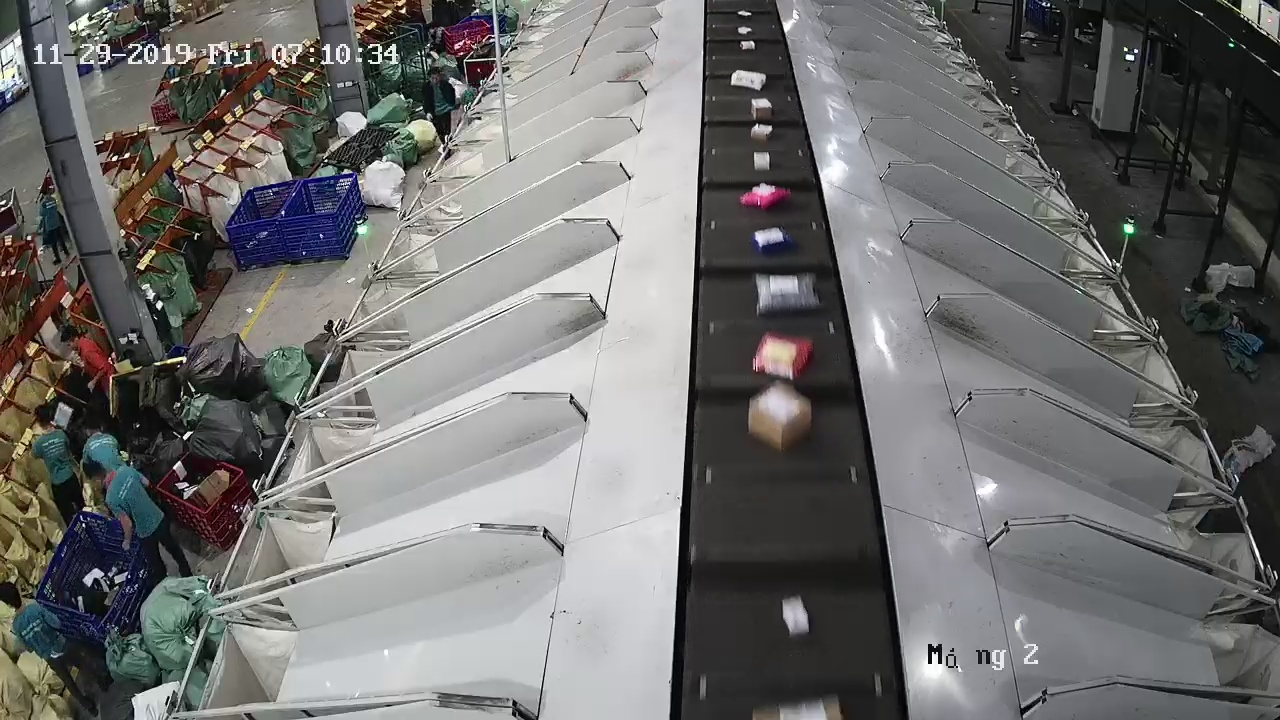parcel: (747, 379, 813, 454), (752, 272, 824, 317), (753, 331, 815, 381), (739, 182, 791, 213), (749, 225, 793, 254), (781, 594, 810, 637), (750, 97, 773, 121), (750, 123, 773, 142), (753, 151, 771, 172)
